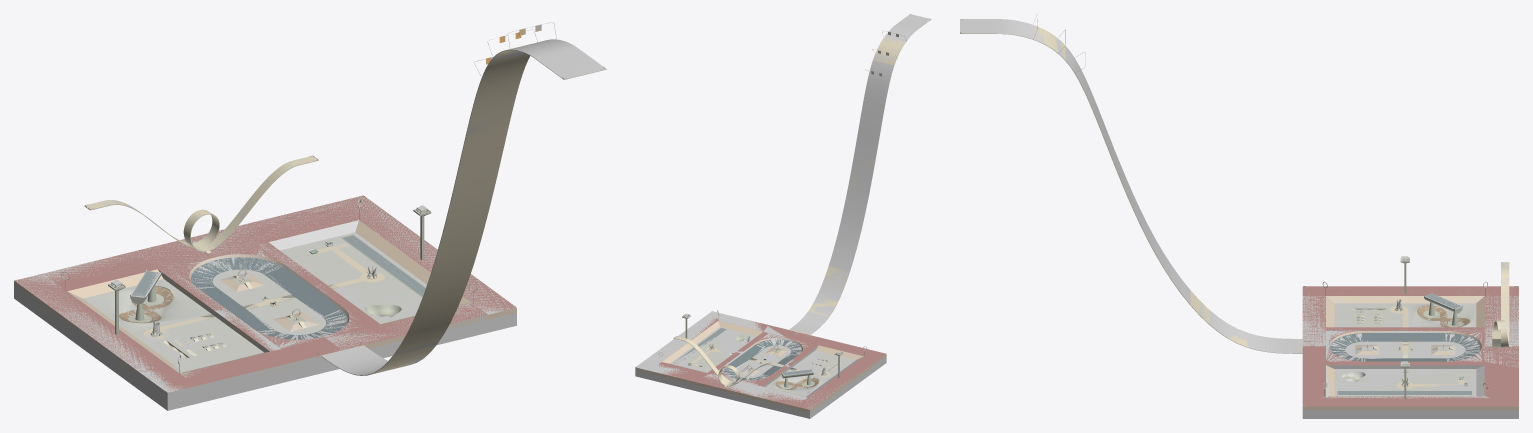
File: world-lite.glb
3 views of the same model, side by side, from view 1: azimuth 30°, elevation 25°; view 2: azimuth 150°, elevation 25°; view 3: azimuth 270°, elevation 25° (orthographic). The views are drawn at different scales.
Visible parts, largest first — view 1: Plane, Cube.808, Cube.065, BezierCircle, Cube.011, Cube, BezierCircle.021, Plane.021, Cube.006, Plane.022, Cube.078, Cube.009 (+8 smaller); view 2: Plane, Plane.023, Plane.024, Plane.022, Cube.808, Cube.054, Cube, Plane.021, Cube.055, BezierCircle, Cube.065, BezierCircle.021 (+3 smaller); view 3: Plane, Cube, Plane.022, Plane.021, Cube.808, BezierCircle, Plane.023, Cube.011, BezierCircle.021, Cube.054, Plane.024, Cube.056 (+4 smaller).
Part boxes in pixels (x1,y1,x2,y2): Plane: [14, 196, 516, 390]; Cube.808: [321, 39, 602, 375]; Cube.065: [14, 273, 196, 410]; BezierCircle: [84, 279, 210, 332]; Cube.011: [180, 348, 340, 403]; Cube: [337, 196, 516, 332]; BezierCircle.021: [84, 156, 318, 251]; Plane.021: [490, 39, 606, 79]; Cube.006: [326, 302, 488, 358]; Plane.022: [321, 341, 438, 375]; Cube.078: [158, 267, 280, 352]; Cube.009: [340, 234, 425, 297]; Plane: [635, 317, 886, 412]; Plane.023: [828, 145, 876, 271]; Plane.024: [856, 60, 894, 150]; Plane.022: [789, 268, 849, 334]; Cube.808: [789, 26, 921, 334]; Cube.054: [722, 380, 807, 415]; Cube: [635, 311, 725, 379]; Plane.021: [873, 14, 931, 61]; Cube.055: [649, 364, 734, 397]; BezierCircle: [766, 369, 829, 396]; Cube.065: [795, 357, 886, 418]; BezierCircle.021: [673, 336, 784, 386]; Plane: [1302, 286, 1518, 409]; Cube: [1302, 396, 1518, 418]; Plane.022: [1199, 300, 1302, 353]; Plane.021: [960, 19, 1064, 59]; Cube.808: [960, 25, 1302, 353]; BezierCircle: [1409, 303, 1476, 327]; Plane.023: [1114, 151, 1190, 304]; Cube.011: [1302, 296, 1325, 346]; BezierCircle.021: [1492, 262, 1509, 347]; Cube.054: [1484, 296, 1518, 346]; Plane.024: [1065, 46, 1113, 161]; Cube.056: [1365, 376, 1476, 396].
Size of what is drawn, in the model's own units: 424 by 555 by 833.
